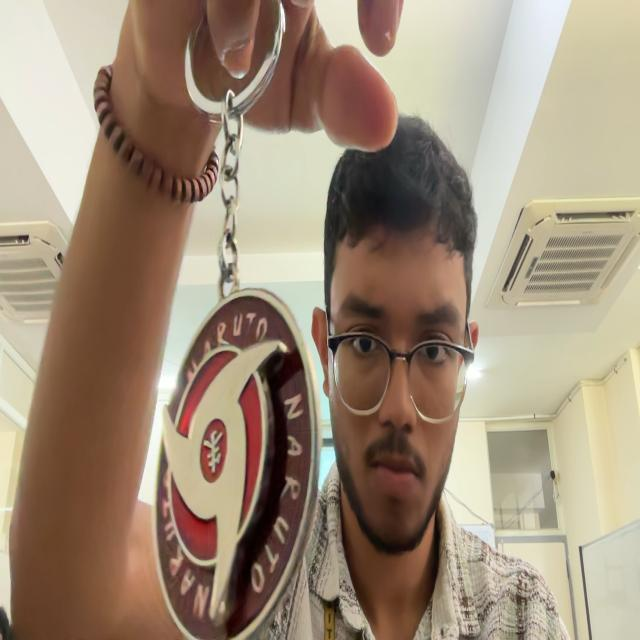dangerous: (152, 0, 322, 639)
